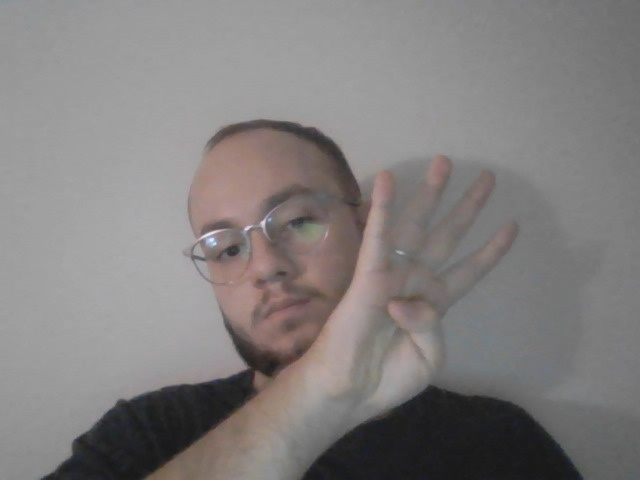Four: (303, 153, 519, 432)
